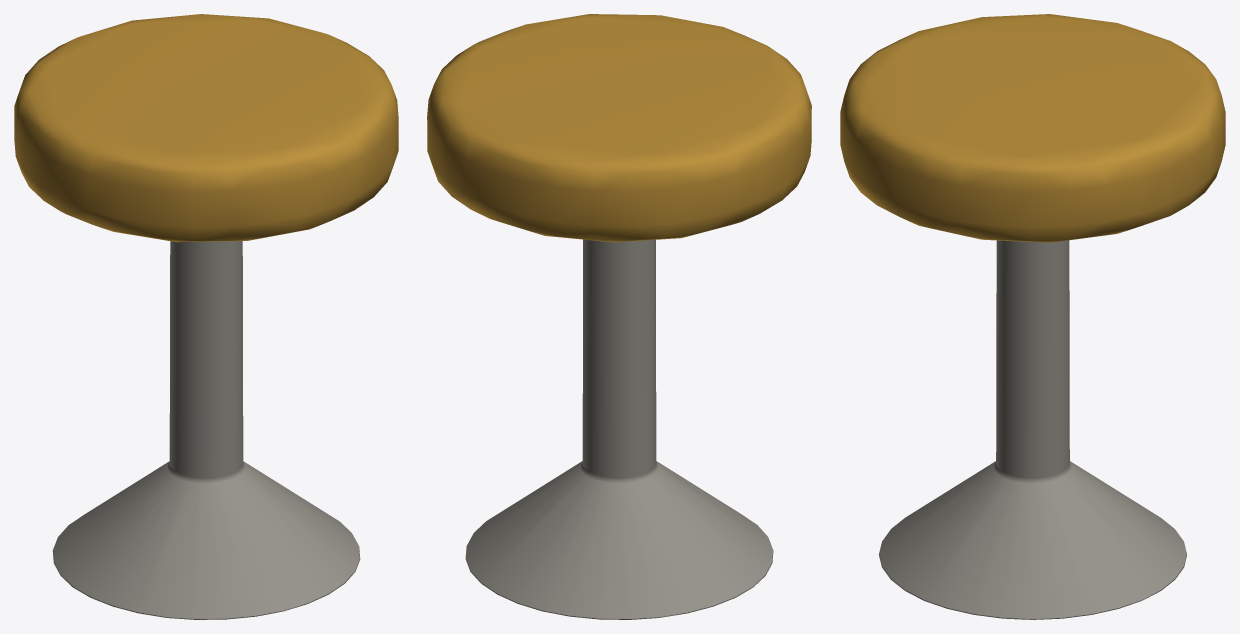
The model's file is barstool_03_yellow.fbx.
3 views of the same model, side by side, from view 1: azimuth 30°, elevation 25°; view 2: azimuth 150°, elevation 25°; view 3: azimuth 270°, elevation 25° (orthographic).
Visible parts, largest first — view 1: barstool_03_yellow; view 2: barstool_03_yellow; view 3: barstool_03_yellow.
Boxes of the visible parts, x1,y1,x2,y2 form: barstool_03_yellow: (14, 14, 398, 619); barstool_03_yellow: (427, 14, 811, 619); barstool_03_yellow: (840, 14, 1225, 619).
Bounding box in the file's own units: 52.71 × 70.84 × 52.72.
Materials: 2 (2 with a texture image).
